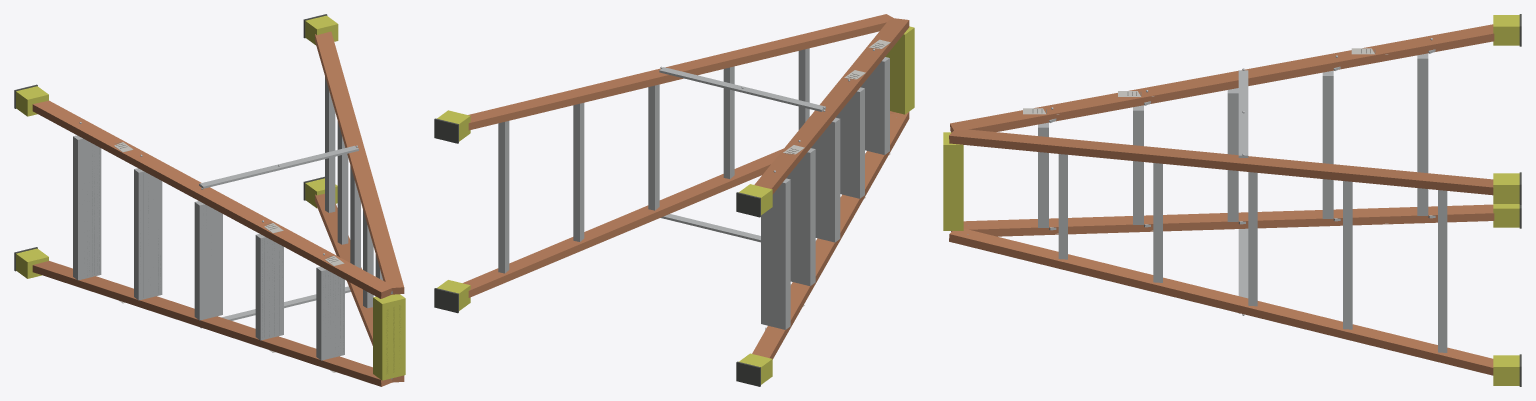
The model's file is ladder_reconstructed.glb.
3 views of the same model, side by side, from view 1: azimuth 30°, elevation 25°; view 2: azimuth 150°, elevation 25°; view 3: azimuth 270°, elevation 25° (orthographic). The views are drawn at different scales.
Parts seen in each view (by area): view 1: left_front_fiberglass_rail, right_front_fiberglass_rail, left_rear_fiberglass_rail, tread_1, tread_2, tread_3, tread_4, tread_6, tread_5, right_rear_fiberglass_rail, rear_cross_brace_0, rear_cross_brace_1 (+8 smaller); view 2: left_rear_fiberglass_rail, right_rear_fiberglass_rail, left_front_fiberglass_rail, tread_1, right_front_fiberglass_rail, tread_2, tread_3, tread_4, tread_5, tread_6, rear_cross_brace_0, rear_cross_brace_1 (+13 smaller); view 3: right_rear_fiberglass_rail, left_rear_fiberglass_rail, left_front_fiberglass_rail, right_front_fiberglass_rail, tread_6, tread_1, rear_cross_brace_0, tread_2, rear_cross_brace_1, tread_3, rear_cross_brace_2, rear_cross_brace_3 (+9 smaller).
Boxes of the visible parts, box(x1,y1,x2,y2) form: left_front_fiberglass_rail: box(32, 100, 392, 298); right_front_fiberglass_rail: box(32, 261, 392, 386); left_rear_fiberglass_rail: box(315, 31, 404, 294); tread_1: box(73, 135, 101, 280); tread_2: box(134, 168, 162, 300); tread_3: box(194, 201, 222, 320); tread_4: box(255, 234, 283, 340); tread_6: box(373, 294, 405, 380); tread_5: box(316, 266, 344, 360); right_rear_fiberglass_rail: box(315, 193, 404, 382); rear_cross_brace_0: box(325, 77, 335, 212); rear_cross_brace_1: box(337, 121, 348, 244); left_rear_fiberglass_rail: box(468, 14, 893, 130); right_rear_fiberglass_rail: box(462, 111, 894, 297); left_front_fiberglass_rail: box(754, 18, 909, 194); tread_1: box(761, 178, 790, 329); right_front_fiberglass_rail: box(752, 111, 909, 359); tread_2: box(786, 148, 815, 286); tread_3: box(811, 117, 840, 242); tread_4: box(836, 87, 864, 198); tread_5: box(860, 57, 889, 154); tread_6: box(885, 26, 914, 114); rear_cross_brace_0: box(498, 121, 509, 273); rear_cross_brace_1: box(573, 103, 584, 241); right_rear_fiberglass_rail: box(949, 228, 1493, 375); left_rear_fiberglass_rail: box(949, 129, 1493, 195); left_front_fiberglass_rail: box(950, 24, 1494, 132); right_front_fiberglass_rail: box(951, 204, 1494, 236); tread_6: box(943, 132, 963, 230); tread_1: box(1417, 53, 1428, 215); rear_cross_brace_0: box(1438, 190, 1447, 352); tread_2: box(1322, 70, 1333, 218); rear_cross_brace_1: box(1343, 181, 1352, 329); tread_3: box(1227, 88, 1238, 221); rear_cross_brace_2: box(1248, 172, 1257, 306); rear_cross_brace_3: box(1153, 163, 1162, 282).
Size of the model in its own units: 1.28 by 0.7062 by 1.83.
